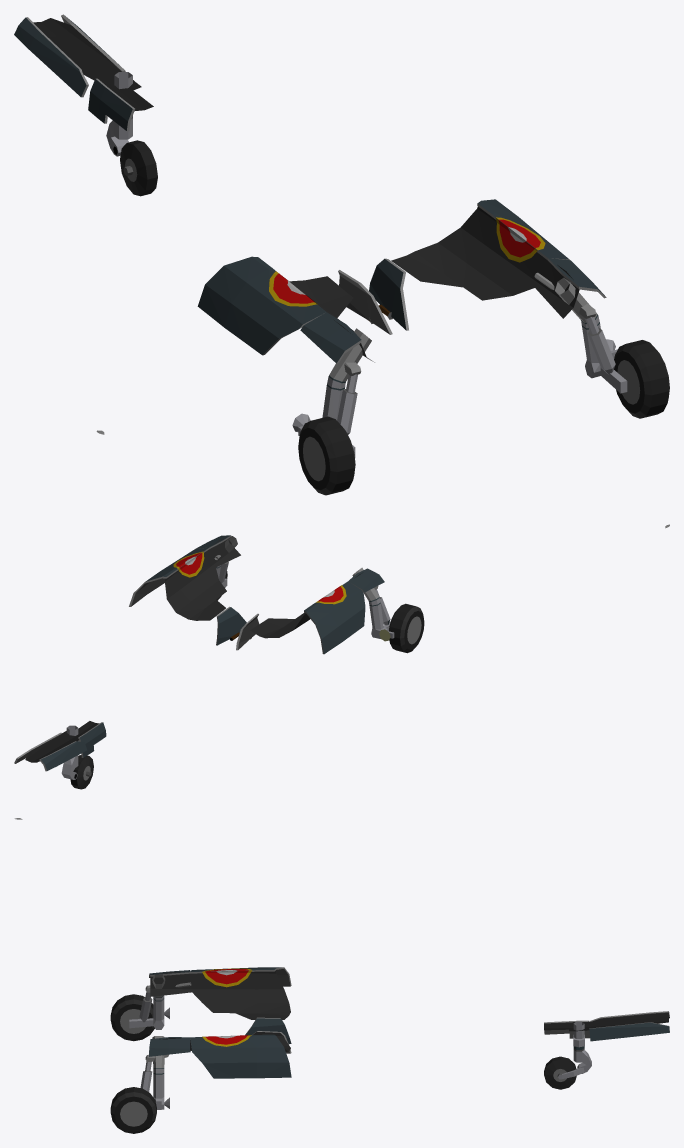
File: Gear_AlphaJetNG.obj
The picture shows the model from 3 angles, top to bottom: view 1: azimuth 30°, elevation 25°; view 2: azimuth 150°, elevation 25°; view 3: azimuth 270°, elevation 25°; orthographic projection. The views are drawn at different scales.
Visible parts, largest first — view 1: ShapeIndexedFaceSet.130_ShapeIndexedFaceSet.131, ShapeIndexedFaceSet.109_ShapeIndexedFaceSet.110, ShapeIndexedFaceSet.087_ShapeIndexedFaceSet.088, ShapeIndexedFaceSet.083_ShapeIndexedFaceSet.084, ShapeIndexedFaceSet.096_ShapeIndexedFaceSet.097, ShapeIndexedFaceSet.074_ShapeIndexedFaceSet.075, ShapeIndexedFaceSet.098_ShapeIndexedFaceSet.099, ShapeIndexedFaceSet.089_ShapeIndexedFaceSet.090, ShapeIndexedFaceSet.123_ShapeIndexedFaceSet.124, ShapeIndexedFaceSet.106_ShapeIndexedFaceSet.107, ShapeIndexedFaceSet.129_ShapeIndexedFaceSet.130, ShapeIndexedFaceSet.080_ShapeIndexedFaceSet.081 (+10 smaller); view 2: ShapeIndexedFaceSet.130_ShapeIndexedFaceSet.131, ShapeIndexedFaceSet.109_ShapeIndexedFaceSet.110, ShapeIndexedFaceSet.087_ShapeIndexedFaceSet.088, ShapeIndexedFaceSet.129_ShapeIndexedFaceSet.130, ShapeIndexedFaceSet.106_ShapeIndexedFaceSet.107, ShapeIndexedFaceSet.089_ShapeIndexedFaceSet.090, ShapeIndexedFaceSet.083_ShapeIndexedFaceSet.084, ShapeIndexedFaceSet.074_ShapeIndexedFaceSet.075, ShapeIndexedFaceSet.123_ShapeIndexedFaceSet.124, ShapeIndexedFaceSet.132_ShapeIndexedFaceSet.133, ShapeIndexedFaceSet.080_ShapeIndexedFaceSet.081, ShapeIndexedFaceSet.069_ShapeIndexedFaceSet.070; view 3: ShapeIndexedFaceSet.116_ShapeIndexedFaceSet.117, ShapeIndexedFaceSet.129_ShapeIndexedFaceSet.130, ShapeIndexedFaceSet.077_ShapeIndexedFaceSet.078, ShapeIndexedFaceSet.089_ShapeIndexedFaceSet.090, ShapeIndexedFaceSet.096_ShapeIndexedFaceSet.097, ShapeIndexedFaceSet.069_ShapeIndexedFaceSet.070, ShapeIndexedFaceSet.131_ShapeIndexedFaceSet.132, ShapeIndexedFaceSet.098_ShapeIndexedFaceSet.099, ShapeIndexedFaceSet.126_ShapeIndexedFaceSet.127, ShapeIndexedFaceSet.083_ShapeIndexedFaceSet.084, ShapeIndexedFaceSet.087_ShapeIndexedFaceSet.088, ShapeIndexedFaceSet.072_ShapeIndexedFaceSet.073 (+3 smaller).
Boxes of the visible parts, x1,y1,x2,y2 form: ShapeIndexedFaceSet.130_ShapeIndexedFaceSet.131: [391, 206, 548, 300]; ShapeIndexedFaceSet.109_ShapeIndexedFaceSet.110: [197, 256, 326, 355]; ShapeIndexedFaceSet.087_ShapeIndexedFaceSet.088: [298, 416, 354, 495]; ShapeIndexedFaceSet.083_ShapeIndexedFaceSet.084: [33, 18, 121, 80]; ShapeIndexedFaceSet.096_ShapeIndexedFaceSet.097: [614, 340, 668, 418]; ShapeIndexedFaceSet.074_ShapeIndexedFaceSet.075: [14, 17, 86, 96]; ShapeIndexedFaceSet.098_ShapeIndexedFaceSet.099: [581, 316, 627, 393]; ShapeIndexedFaceSet.089_ShapeIndexedFaceSet.090: [292, 374, 357, 457]; ShapeIndexedFaceSet.123_ShapeIndexedFaceSet.124: [300, 312, 361, 363]; ShapeIndexedFaceSet.106_ShapeIndexedFaceSet.107: [369, 258, 406, 330]; ShapeIndexedFaceSet.129_ShapeIndexedFaceSet.130: [289, 276, 354, 331]; ShapeIndexedFaceSet.080_ShapeIndexedFaceSet.081: [88, 79, 132, 130]; ShapeIndexedFaceSet.130_ShapeIndexedFaceSet.131: [165, 550, 226, 620]; ShapeIndexedFaceSet.109_ShapeIndexedFaceSet.110: [304, 581, 365, 654]; ShapeIndexedFaceSet.087_ShapeIndexedFaceSet.088: [389, 603, 424, 652]; ShapeIndexedFaceSet.129_ShapeIndexedFaceSet.130: [250, 612, 310, 638]; ShapeIndexedFaceSet.106_ShapeIndexedFaceSet.107: [217, 607, 246, 645]; ShapeIndexedFaceSet.089_ShapeIndexedFaceSet.090: [369, 589, 394, 639]; ShapeIndexedFaceSet.083_ShapeIndexedFaceSet.084: [25, 734, 79, 762]; ShapeIndexedFaceSet.074_ShapeIndexedFaceSet.075: [41, 741, 86, 770]; ShapeIndexedFaceSet.123_ShapeIndexedFaceSet.124: [348, 568, 384, 592]; ShapeIndexedFaceSet.132_ShapeIndexedFaceSet.133: [209, 538, 240, 566]; ShapeIndexedFaceSet.080_ShapeIndexedFaceSet.081: [80, 722, 106, 757]; ShapeIndexedFaceSet.069_ShapeIndexedFaceSet.070: [61, 725, 78, 779]; ShapeIndexedFaceSet.116_ShapeIndexedFaceSet.117: [190, 1034, 291, 1078]; ShapeIndexedFaceSet.129_ShapeIndexedFaceSet.130: [190, 971, 290, 1019]; ShapeIndexedFaceSet.077_ShapeIndexedFaceSet.078: [589, 1022, 669, 1041]; ShapeIndexedFaceSet.089_ShapeIndexedFaceSet.090: [129, 992, 169, 1029]; ShapeIndexedFaceSet.096_ShapeIndexedFaceSet.097: [110, 1087, 156, 1131]; ShapeIndexedFaceSet.069_ShapeIndexedFaceSet.070: [558, 1021, 591, 1079]; ShapeIndexedFaceSet.131_ShapeIndexedFaceSet.132: [150, 972, 191, 996]; ShapeIndexedFaceSet.098_ShapeIndexedFaceSet.099: [140, 1061, 169, 1109]; ShapeIndexedFaceSet.126_ShapeIndexedFaceSet.127: [149, 1037, 190, 1056]; ShapeIndexedFaceSet.083_ShapeIndexedFaceSet.084: [589, 1012, 668, 1028]; ShapeIndexedFaceSet.087_ShapeIndexedFaceSet.088: [110, 994, 153, 1038]; ShapeIndexedFaceSet.072_ShapeIndexedFaceSet.073: [544, 1059, 576, 1089].
Bounding box in the file's own units: 49.1 × 15.01 × 70.87.
